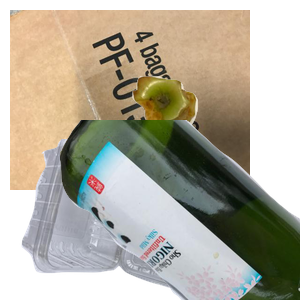cardboard: (10, 10, 250, 190)
glass: (60, 120, 300, 300)
plastic: (19, 139, 249, 300)
trash: (130, 74, 300, 199)
